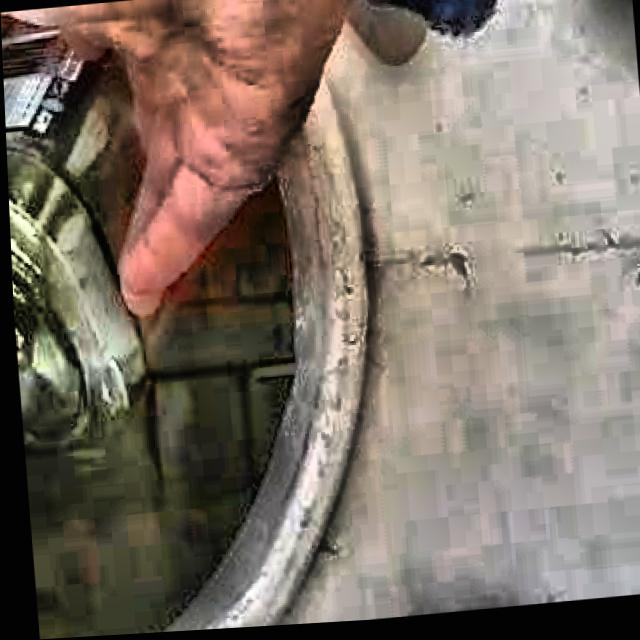glass: (1, 23, 141, 442)
